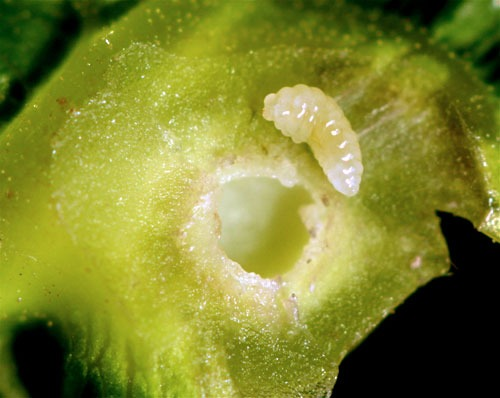galarisi: (224, 79, 374, 273)
